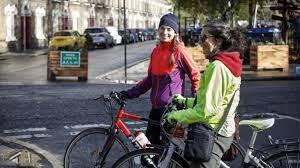nohelmet: (197, 22, 232, 57), (157, 13, 179, 44)
